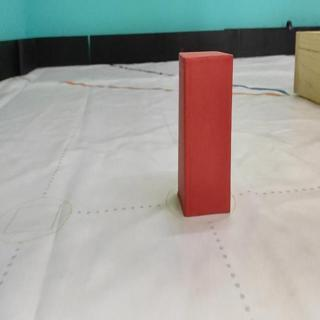redbox: (177, 51, 233, 217)
